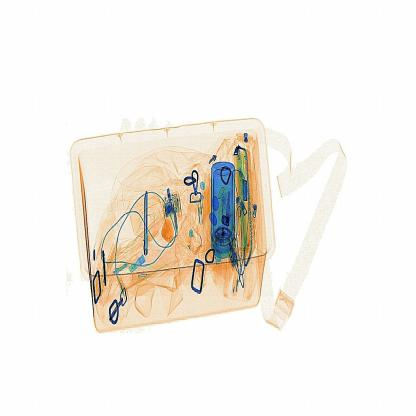pliers: (136, 180, 155, 258)
